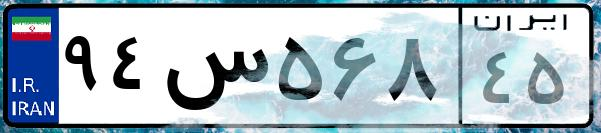4: (475, 38, 525, 113), (110, 28, 158, 98)
5: (270, 28, 330, 110), (525, 38, 570, 115)
6: (330, 28, 385, 110)
8: (385, 28, 445, 110)
9: (57, 26, 110, 100)
س: (158, 20, 270, 120)
